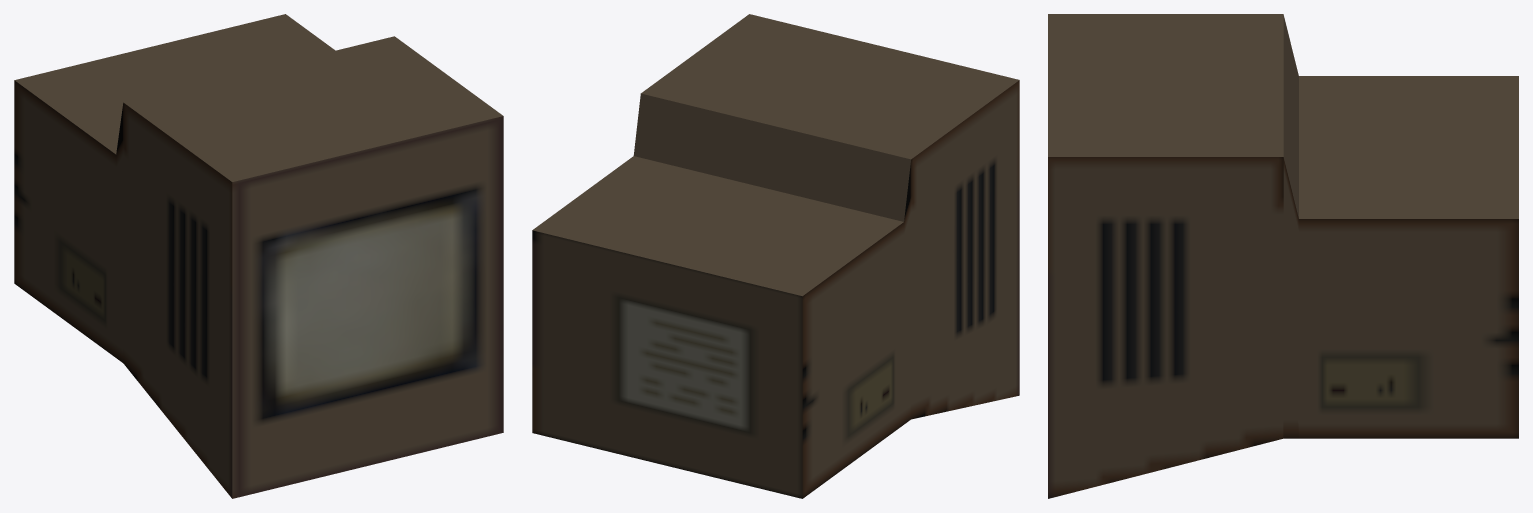
3 renders of one model, left to right at view 1: azimuth 30°, elevation 25°; view 2: azimuth 150°, elevation 25°; view 3: azimuth 270°, elevation 25°, orthographic. The views are drawn at different scales.
Parts seen in each view (by area): view 1: TV; view 2: TV; view 3: TV.
Boxes of the visible parts, x1=… form: TV: x1=14, y1=14, x2=503, y2=498; TV: x1=532, y1=14, x2=1019, y2=498; TV: x1=1048, y1=14, x2=1518, y2=498.
Size of the model in its own units: 0.5587 by 0.6233 by 0.7774.
